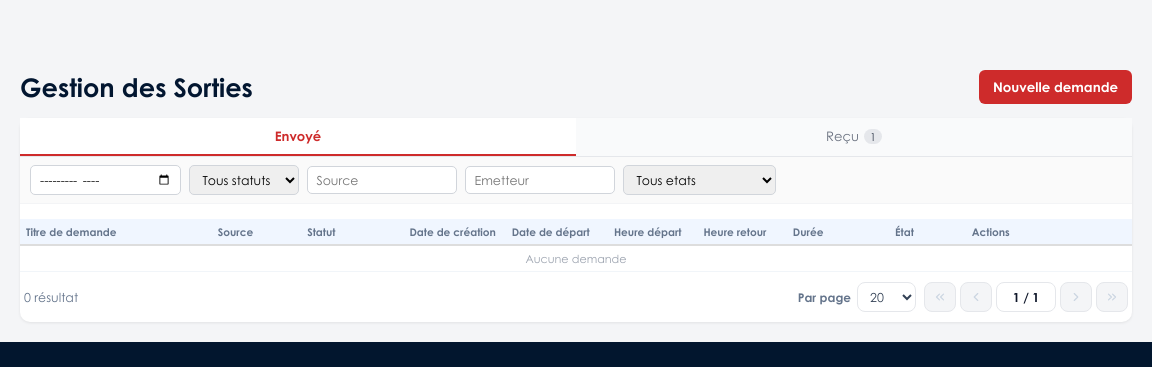
Sorties Activer action visibility › RH user sees Activer in Recu tab for AttenteRH items
Click the button "Reçu1". click: point(854, 137)
box: [576, 118, 1132, 156]
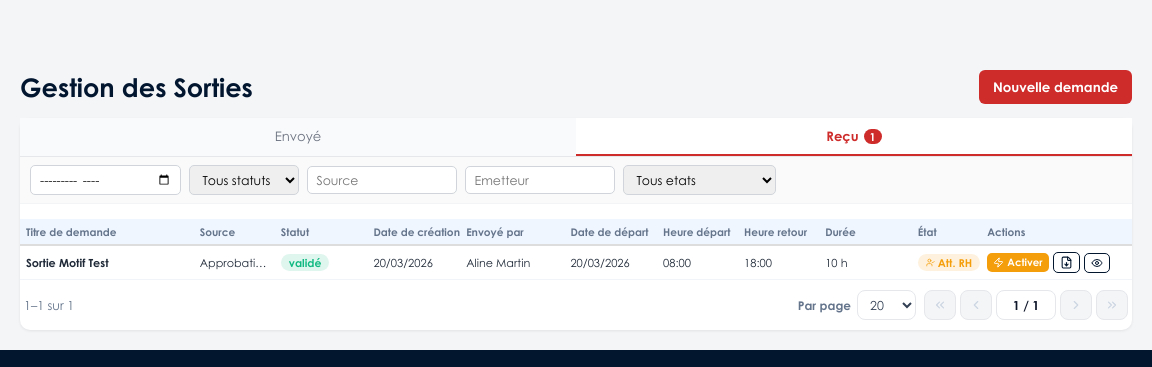
Result: the button "Activer" is shown at [987, 253, 1048, 272]
